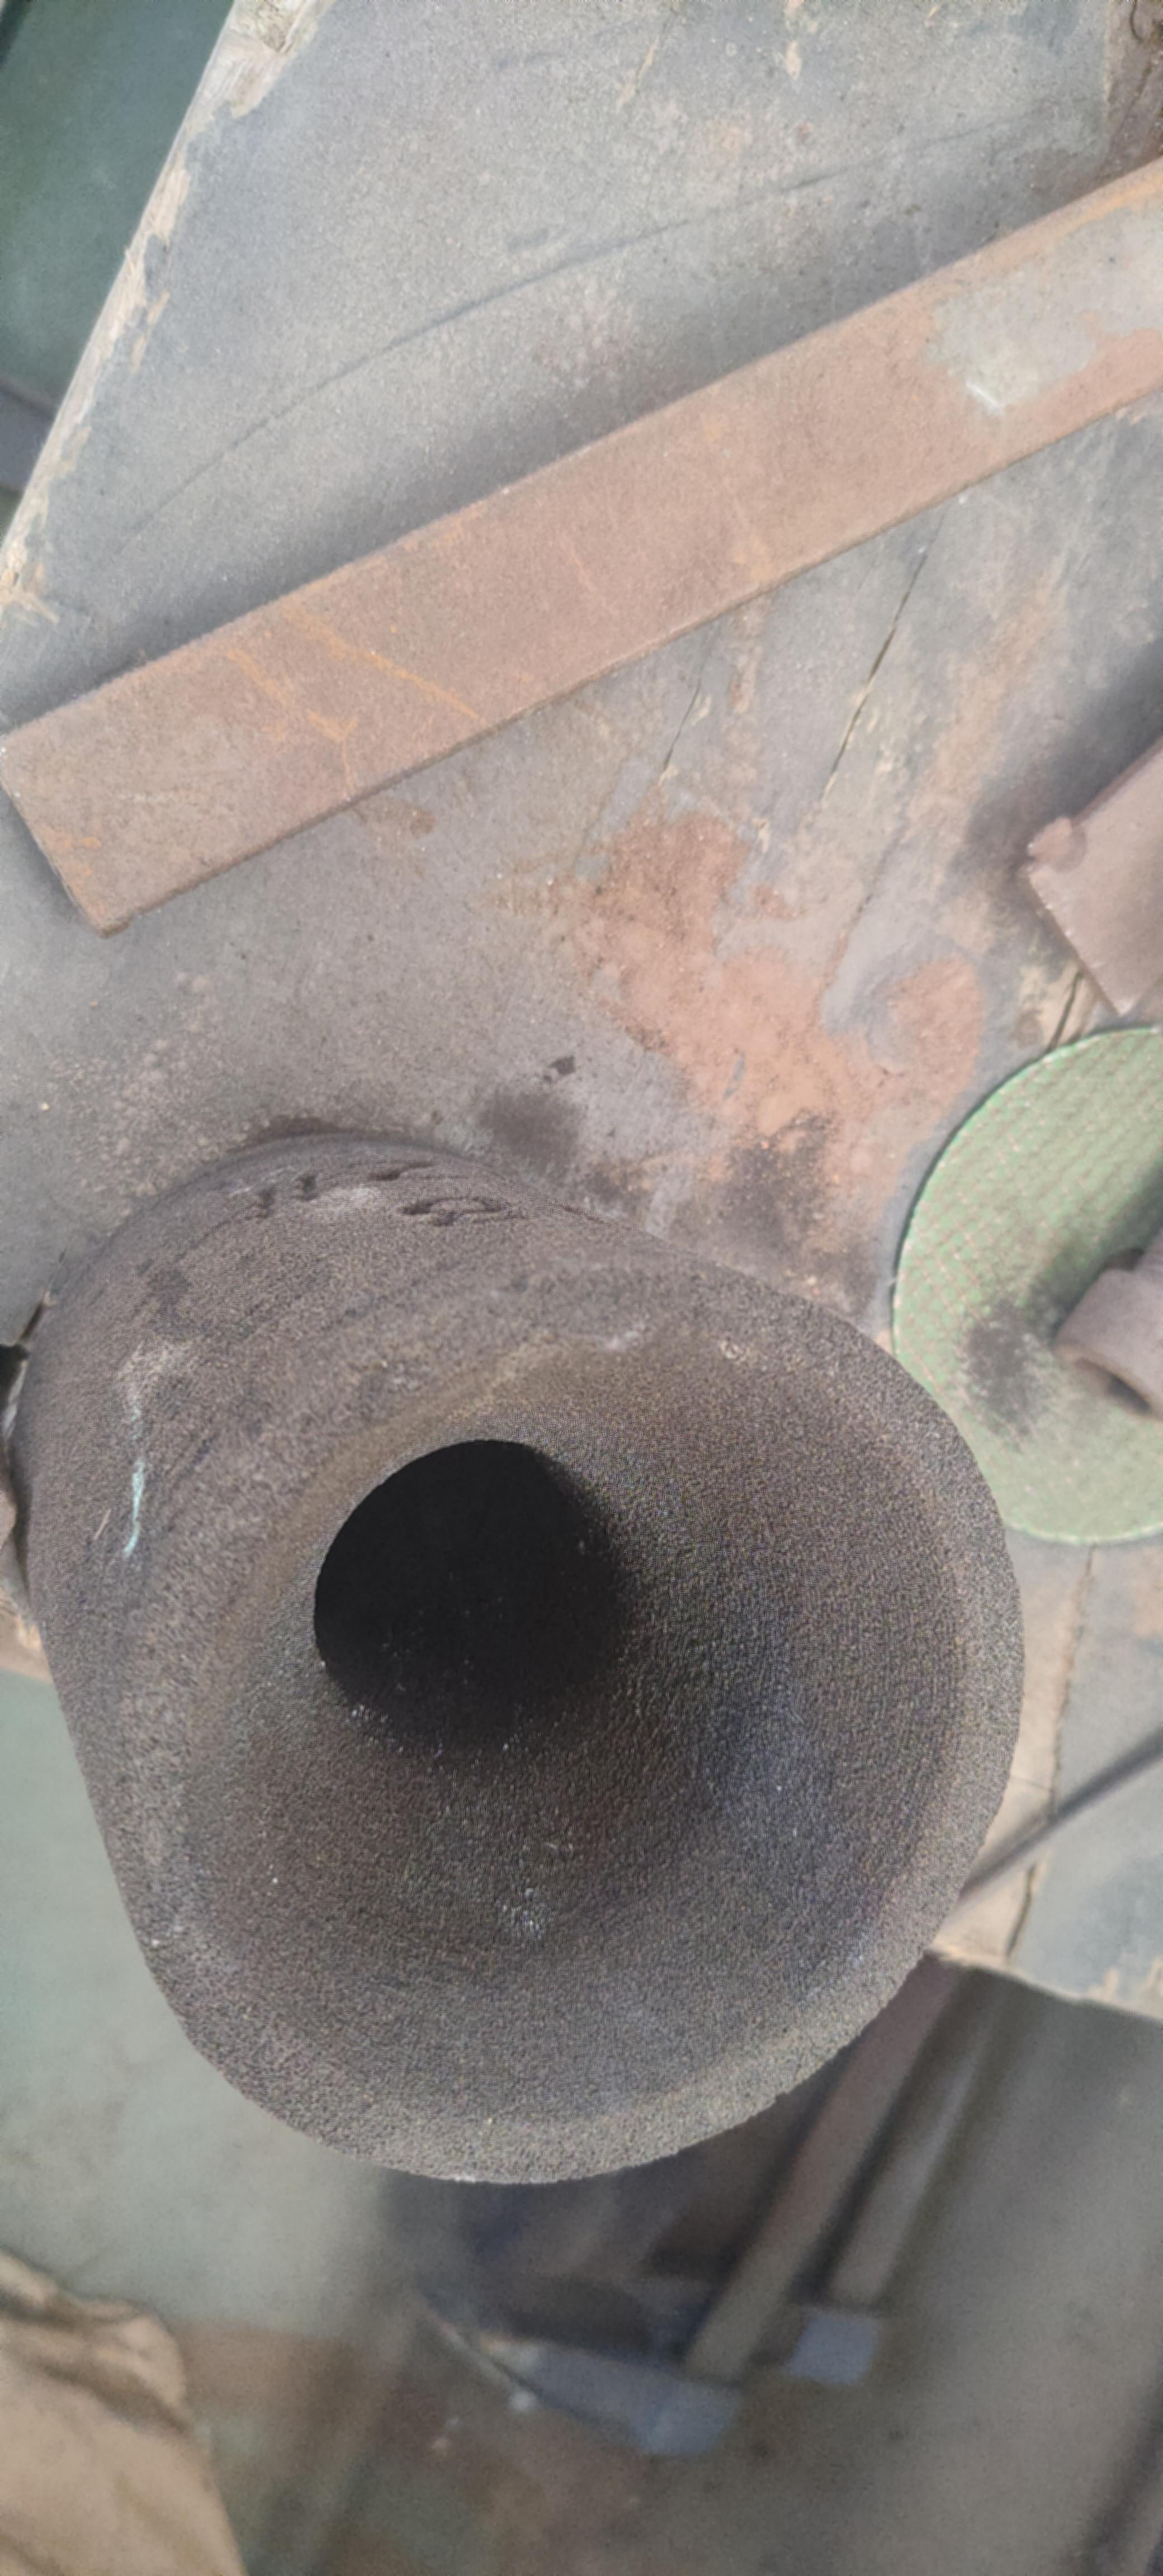pouring hole: (171, 1344, 958, 2126)
